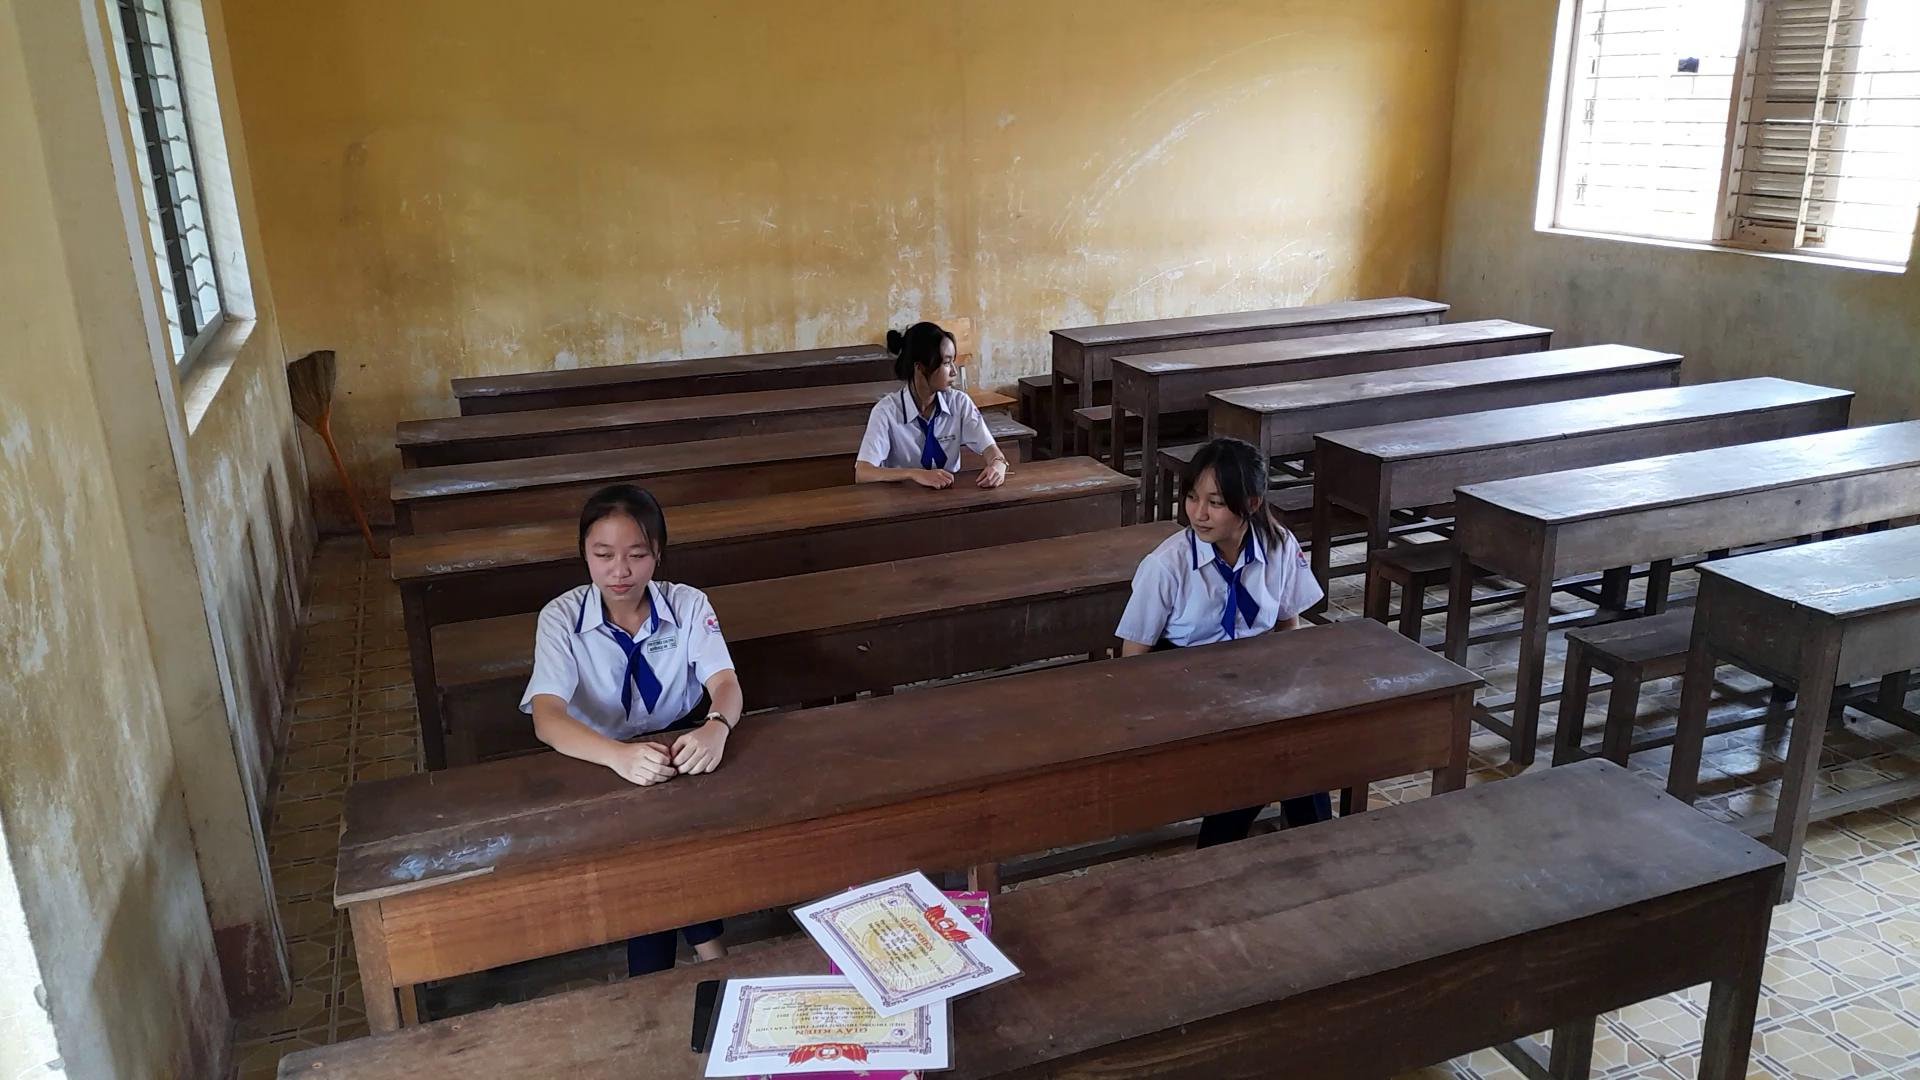Hand Under Table: (1101, 525, 1164, 666), (1269, 525, 1313, 644)
Look Around: (1156, 425, 1286, 558), (865, 306, 975, 398)
Normal: (505, 476, 764, 781)
